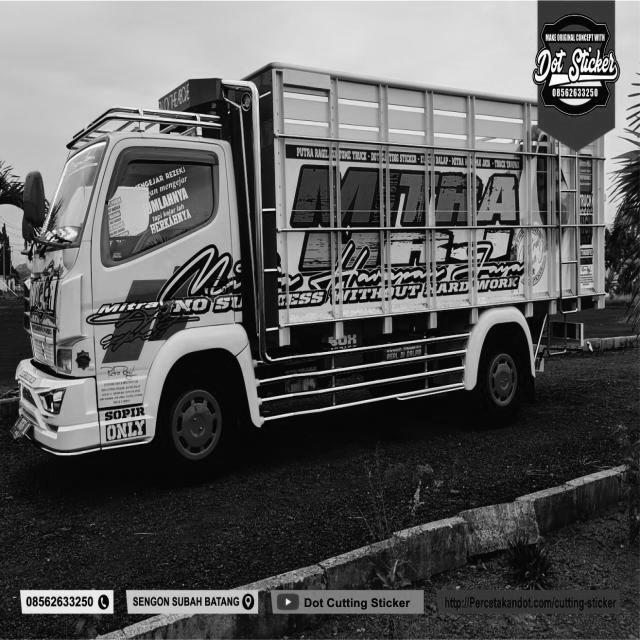truck: (12, 105, 286, 466)
